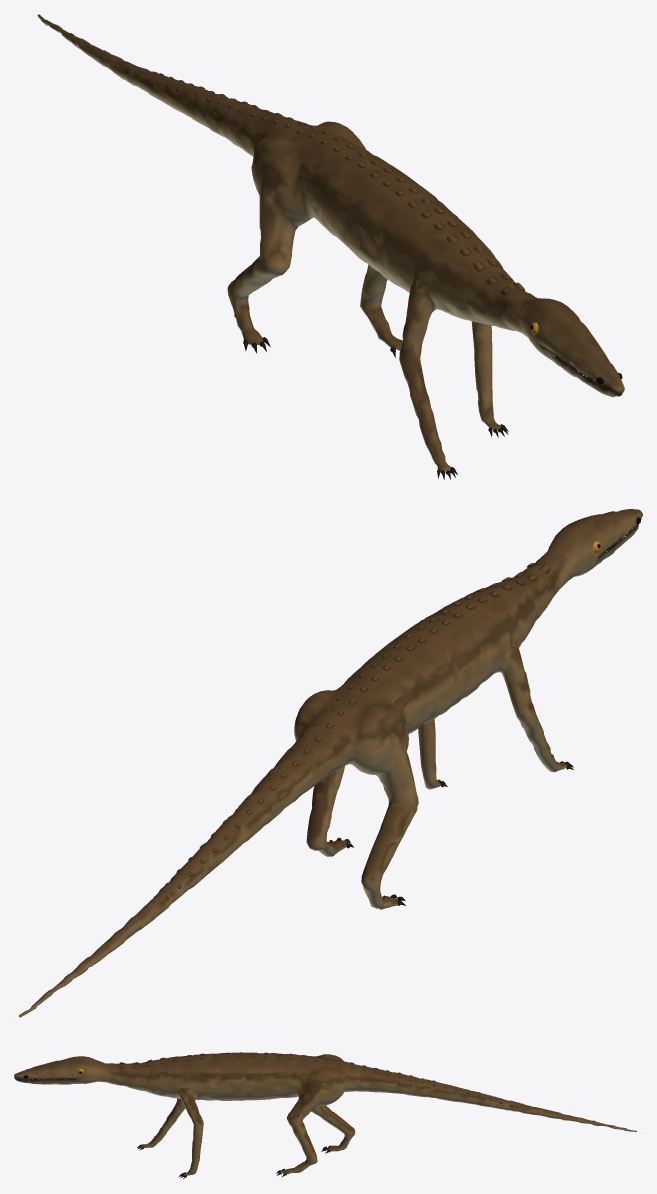
The model's file is Euparkeria.fbx.
3 renders of one model, top to bottom at view 1: azimuth 30°, elevation 25°; view 2: azimuth 150°, elevation 25°; view 3: azimuth 270°, elevation 25°, orthographic. The views are drawn at different scales.
Parts seen in each view (by area): view 1: Euparkeria; view 2: Euparkeria; view 3: Euparkeria.
Part boxes in pixels (x1,y1,x2,y2): Euparkeria: [37, 14, 624, 479]; Euparkeria: [19, 509, 642, 1017]; Euparkeria: [14, 1052, 642, 1178].
Size of the model in its own units: 0.2255 by 0.3829 by 1.95.
